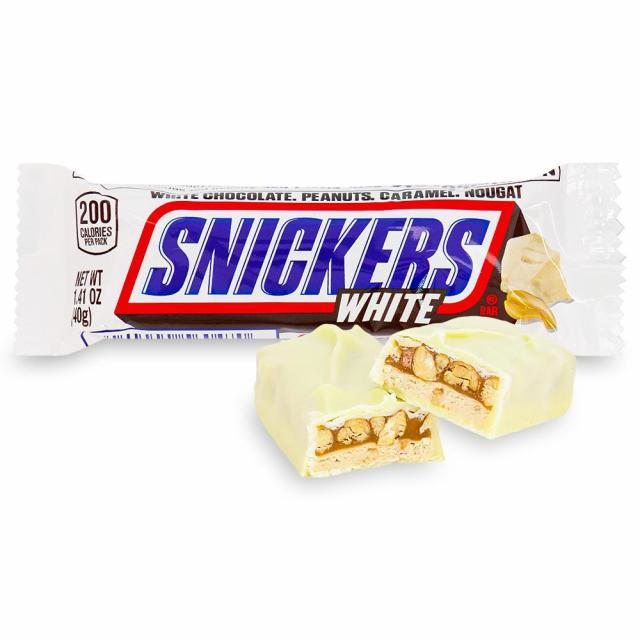Chocolate bar: (14, 158, 624, 366)
Chocolate bar packaged: (250, 325, 451, 477), (371, 307, 579, 449)
